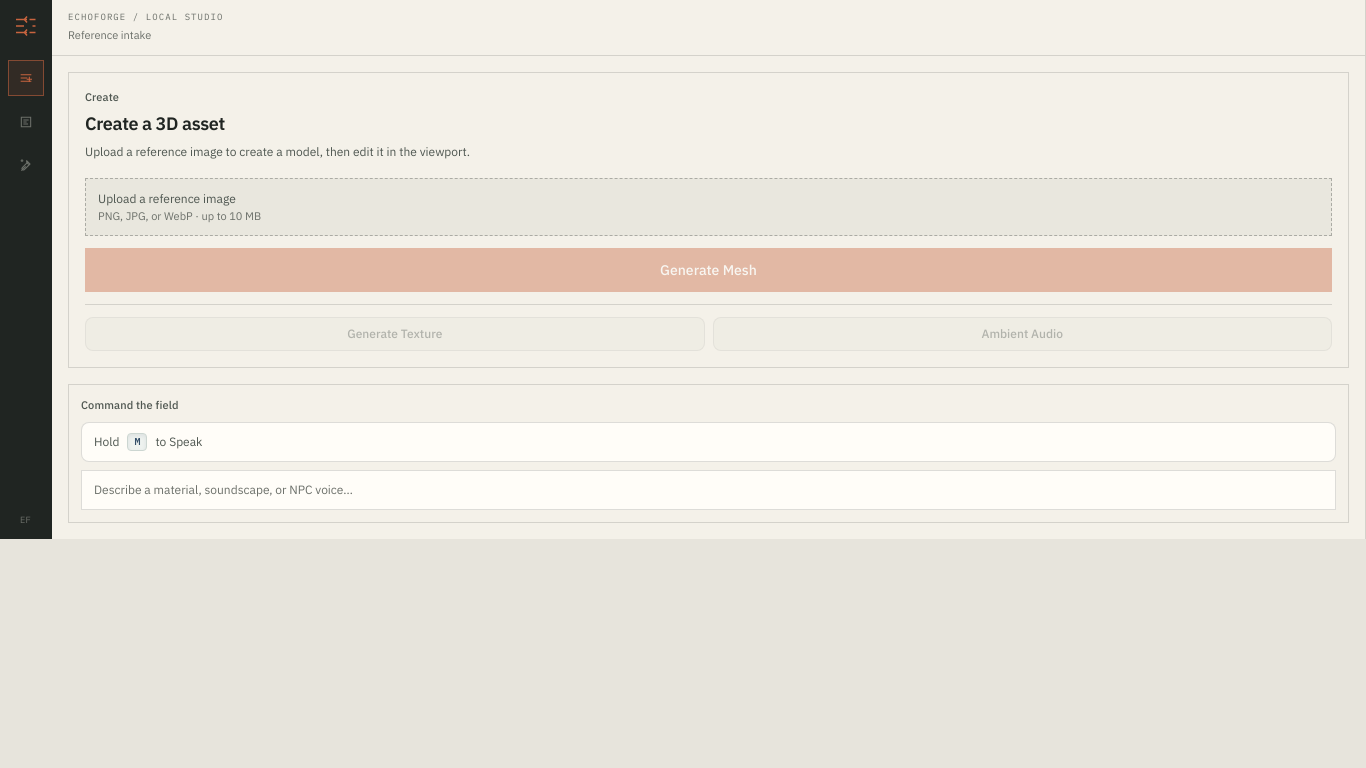
Test: LeftDrawer › switches between creation, scene, and tools without changing the viewport workflow
The image size is (1366, 768).
Step 1. Click the button named "Scene" → coordinates (26, 122), box [8,104,44,140]
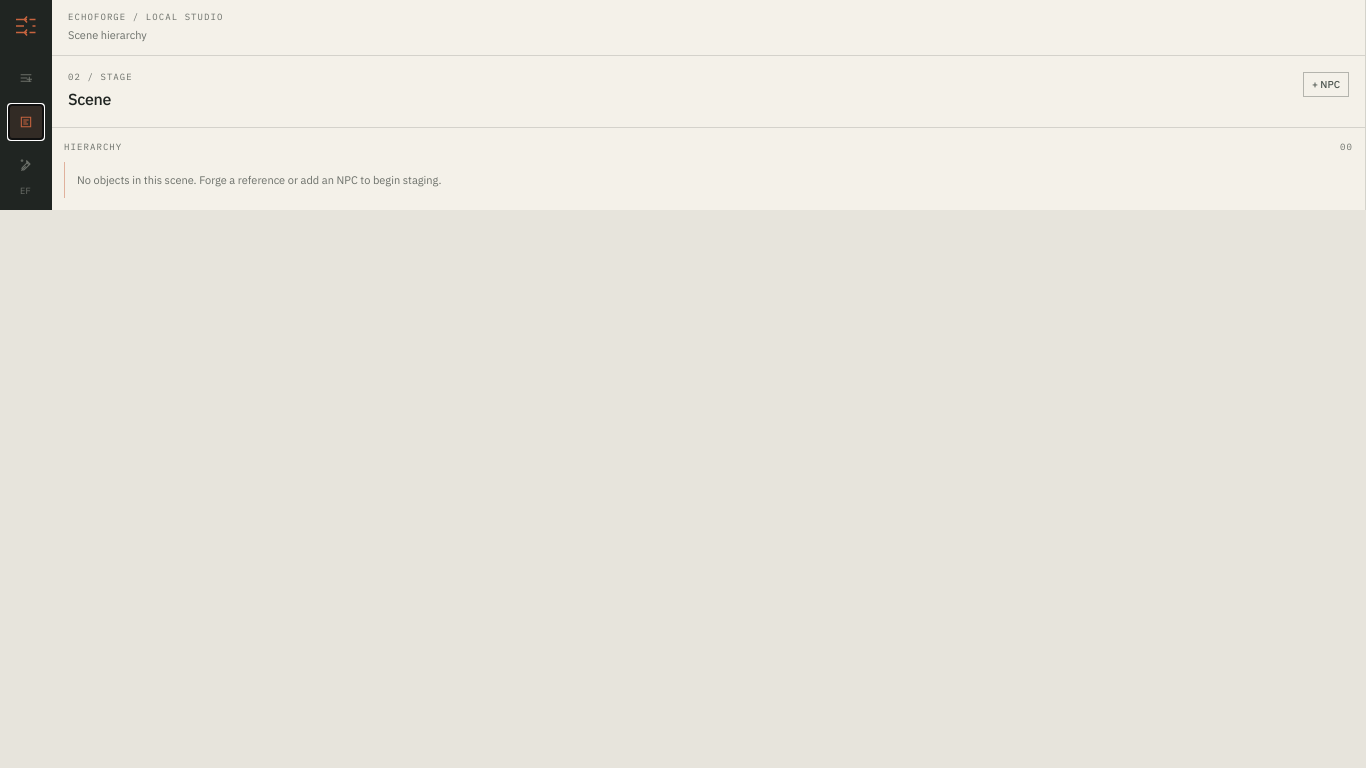
Expected: the element with test id "scene-tree" is shown, [52,56,1365,210]
Expected: the text "No objects in this scene" is shown, [77,173,442,187]
Step 2. Click the button named "Tools" → coordinates (26, 166), box [8,148,44,184]
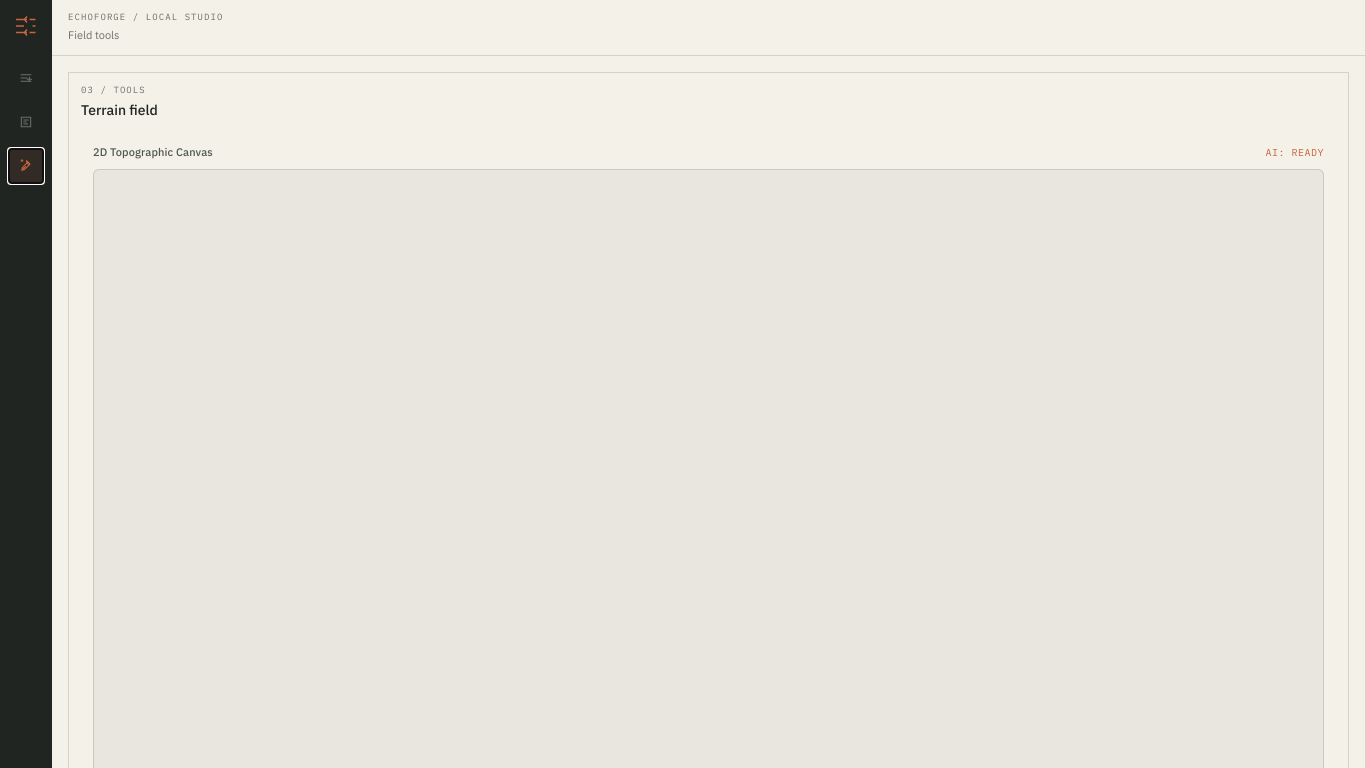
Expected: the heading "2D Topographic Canvas" is shown, [93,144,213,161]
